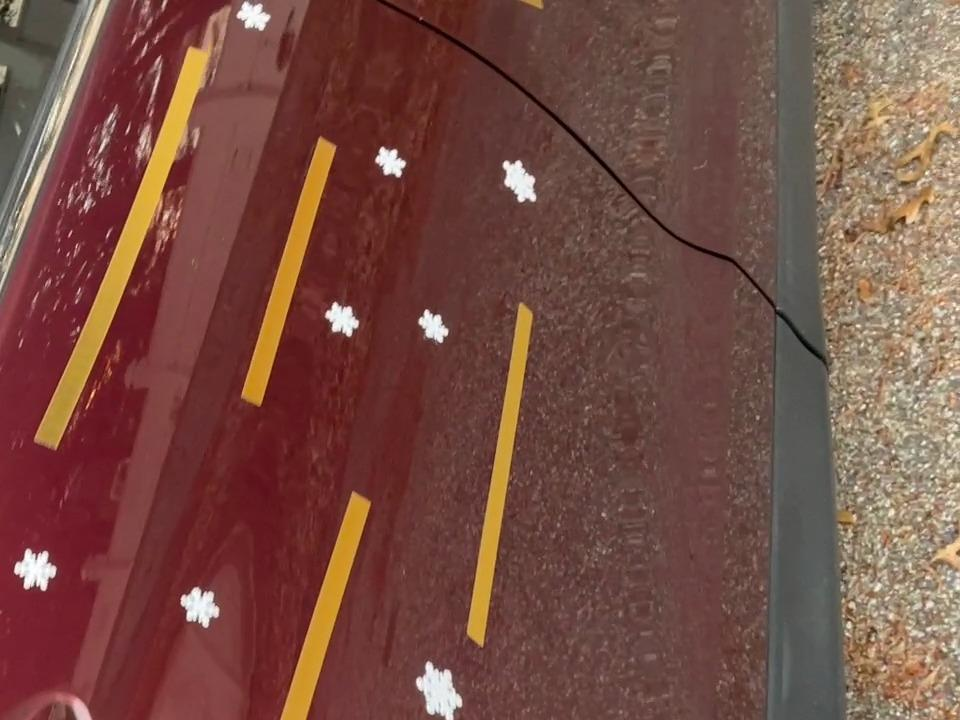dent: (402, 650, 477, 720), (173, 573, 231, 641), (493, 153, 550, 213), (413, 303, 457, 354), (369, 141, 415, 185), (323, 295, 362, 341), (233, 0, 278, 35)
scratch: (33, 35, 216, 459), (451, 297, 548, 644), (235, 123, 337, 417), (260, 482, 383, 720)
